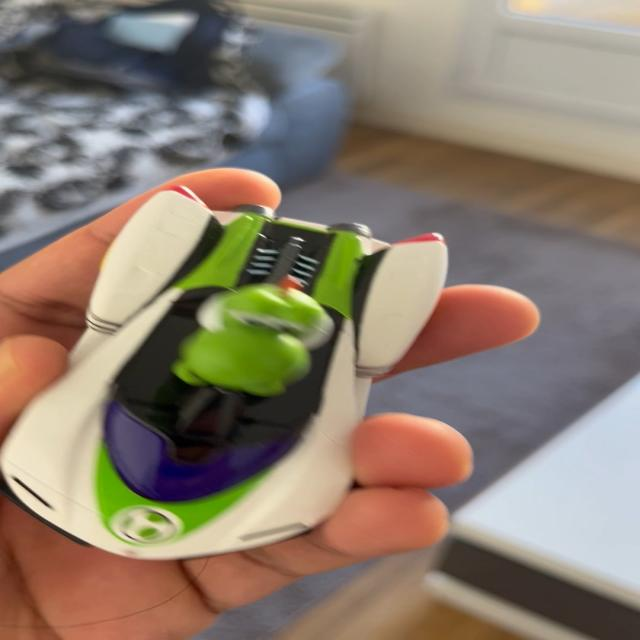yoshi: (6, 159, 473, 582)
